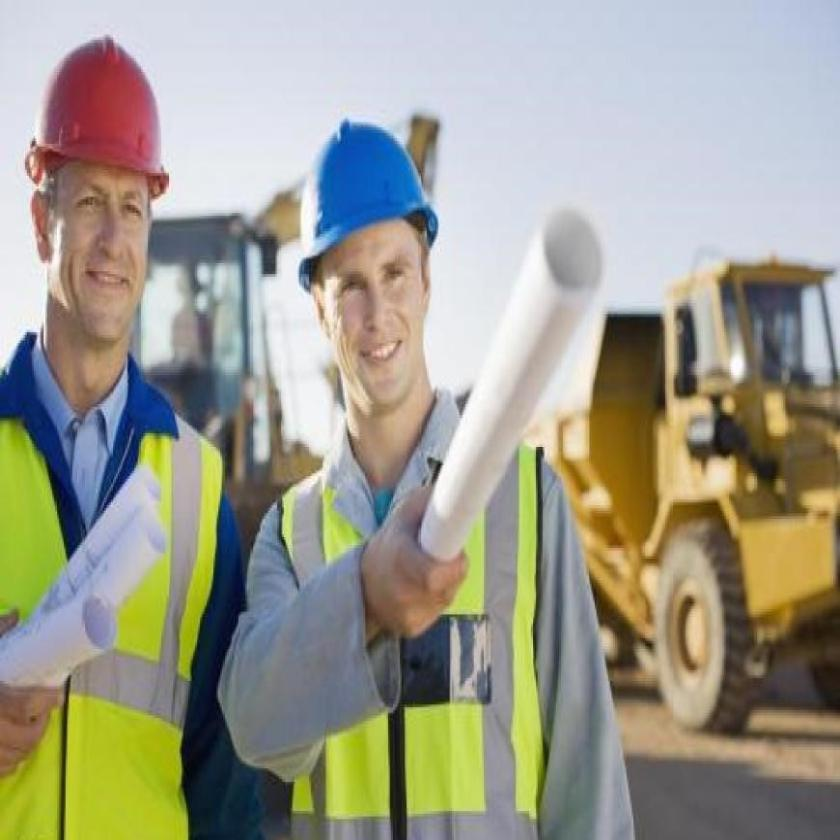Con_casco: (292, 113, 437, 448), (35, 30, 174, 360)
